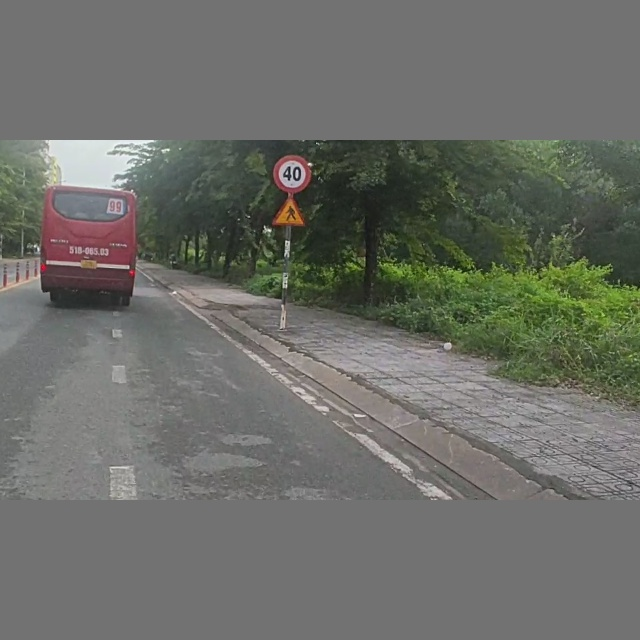P.127*40: (275, 152, 313, 192)
W.224: (271, 195, 309, 227)
